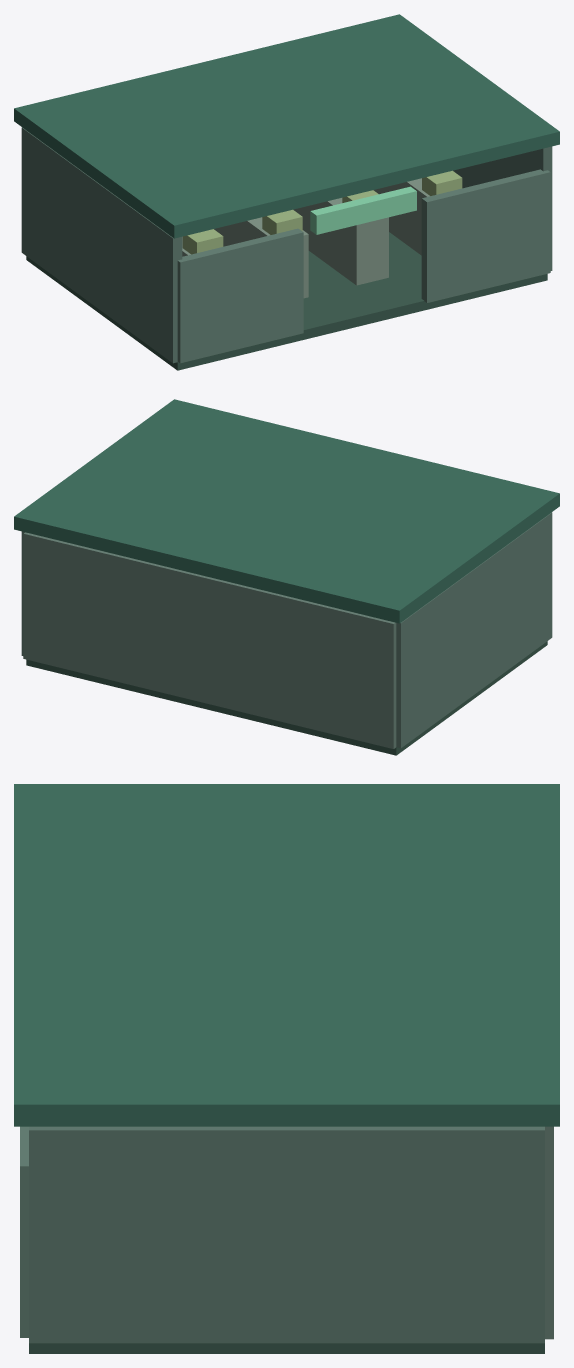
Rendered from agro-warehouse.glb.
The picture shows the model from 3 angles, top to bottom: view 1: azimuth 30°, elevation 25°; view 2: azimuth 150°, elevation 25°; view 3: azimuth 270°, elevation 25°; orthographic projection. The views are drawn at different scales.
Parts seen in each view (by area): view 1: roof, left_wall, front_right, front_left, floor_base, rack_0.52, door_top, right_wall, rack_1.55, rack_-0.52, crate_-1.55_0.8, crate_-0.52_0.8 (+1 smaller); view 2: roof, back_wall, left_wall, floor_base; view 3: roof, right_wall, floor_base, back_wall, front_right.
Part boxes in pixels (x1,y1,x2,y2): roof: (14,14,559,238); left_wall: (21,127,182,363); front_right: (421,169,550,302); front_left: (177,228,303,363); floor_base: (26,232,547,370); rack_0.52: (293,198,388,285); door_top: (310,186,416,234); right_wall: (453,146,552,270); rack_1.55: (373,178,429,255); rack_-0.52: (214,217,308,298); crate_-1.55_0.8: (182,229,223,254); crate_-0.52_0.8: (262,209,302,234); roof: (14,399,559,623); back_wall: (23,532,396,748); left_wall: (396,512,552,748); floor_base: (26,641,547,755); roof: (14,784,559,1126); right_wall: (29,1126,544,1343); floor_base: (29,1343,544,1353); back_wall: (545,1126,553,1339); front_right: (20,1126,28,1337).
Size of the model in its own units: 5 by 1.86 by 3.6.
